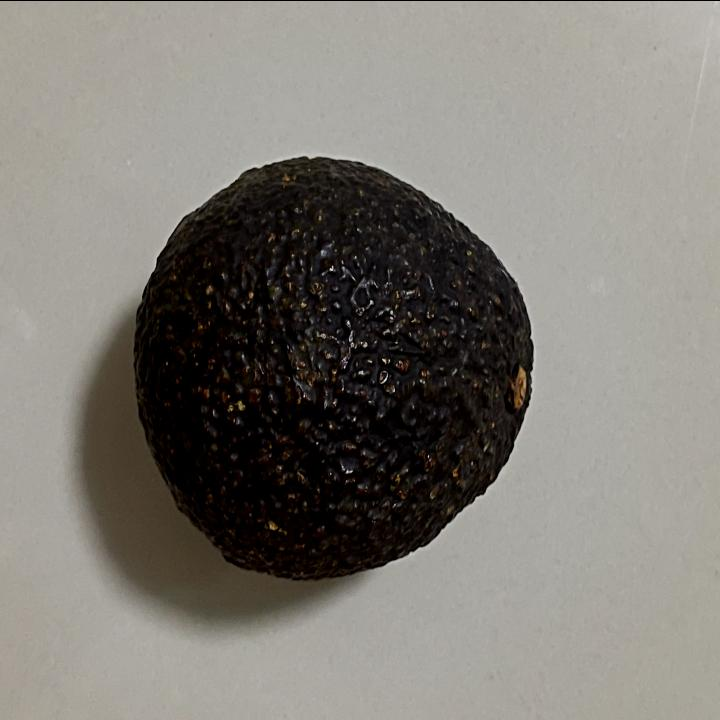Level2: (129, 145, 542, 590)
